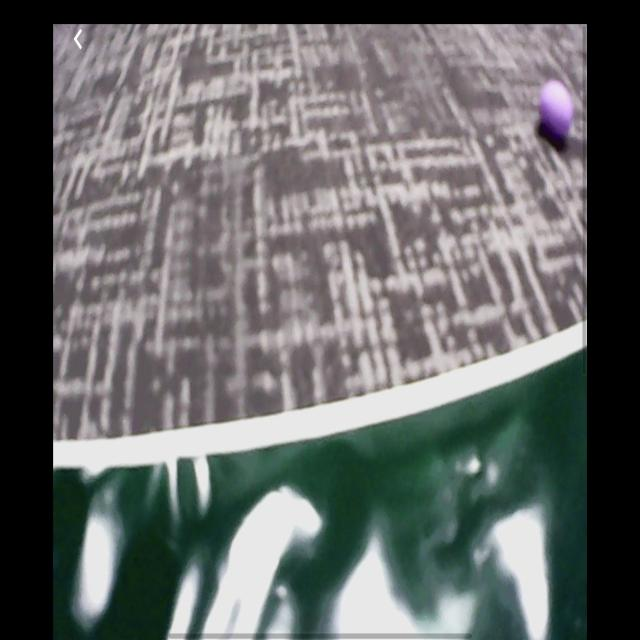ball: (540, 80, 575, 150)
